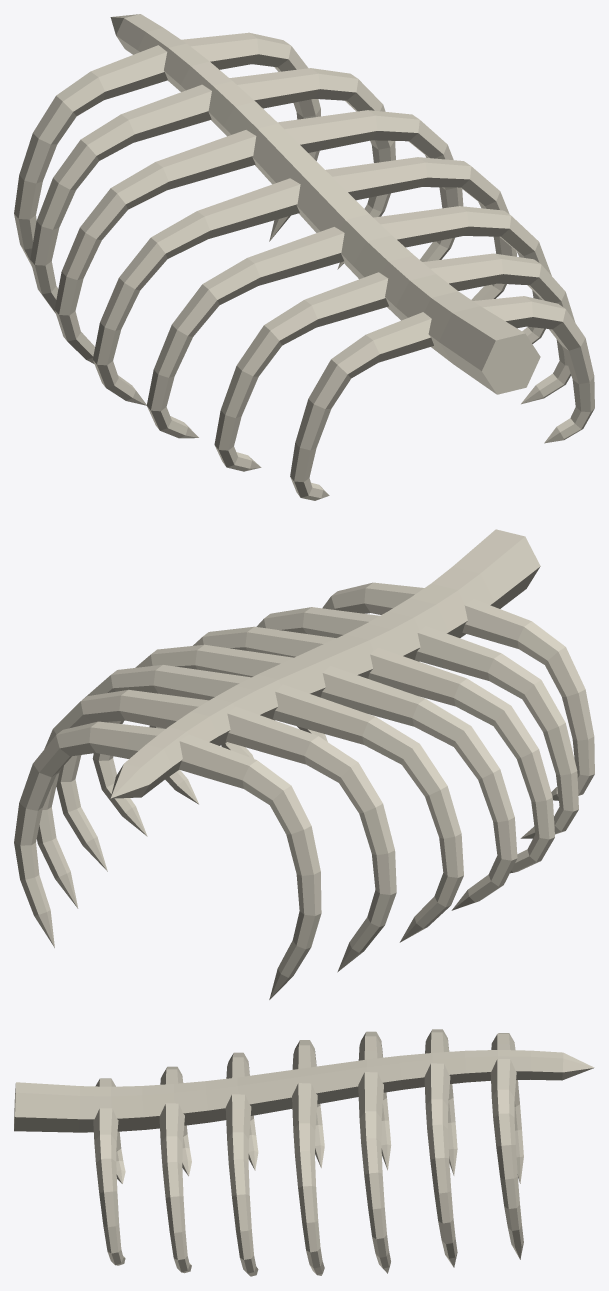
The model's file is WhaleRibcage.glb.
The picture shows the model from 3 angles, top to bottom: view 1: azimuth 30°, elevation 25°; view 2: azimuth 150°, elevation 25°; view 3: azimuth 270°, elevation 25°; orthographic projection. The views are drawn at different scales.
Visible parts, largest first — view 1: WhaleRibcage; view 2: WhaleRibcage; view 3: WhaleRibcage.
Boxes of the visible parts, bbox=[...] form: WhaleRibcage: bbox=[14, 14, 594, 500]; WhaleRibcage: bbox=[14, 529, 594, 999]; WhaleRibcage: bbox=[14, 1029, 594, 1276].
Bounding box in the file's own units: 4.24 × 2.26 × 7.01.
Materials: 1 (1 with a texture image).
